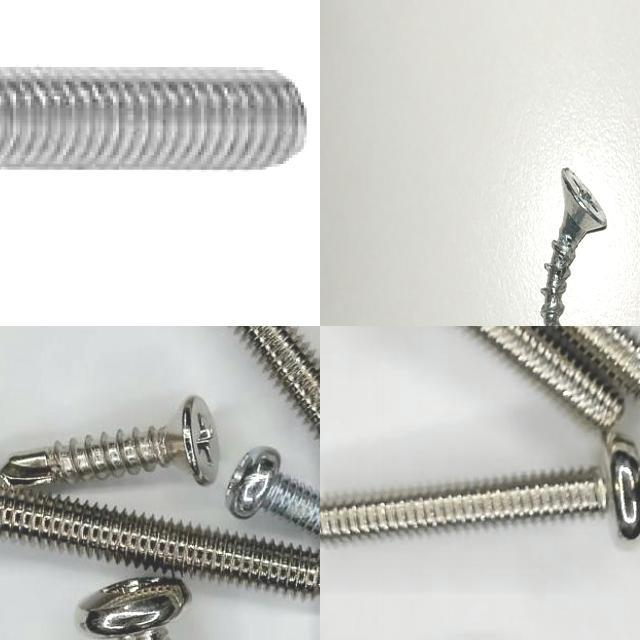Screw: (320, 433, 640, 543), (0, 488, 320, 595), (0, 66, 310, 176), (0, 396, 219, 488), (469, 326, 626, 432), (541, 167, 607, 326), (234, 326, 320, 437), (226, 447, 320, 537), (80, 578, 190, 640), (556, 326, 640, 399)
